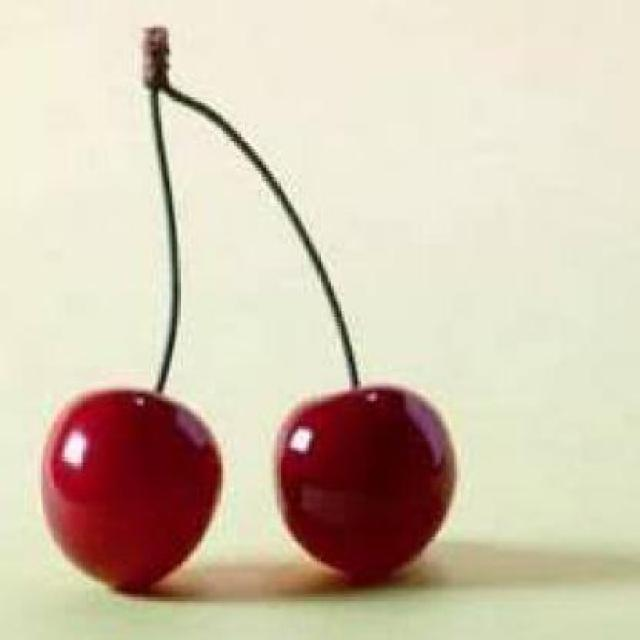BIODEGRADABLE: (34, 385, 220, 597), (274, 378, 454, 592)
